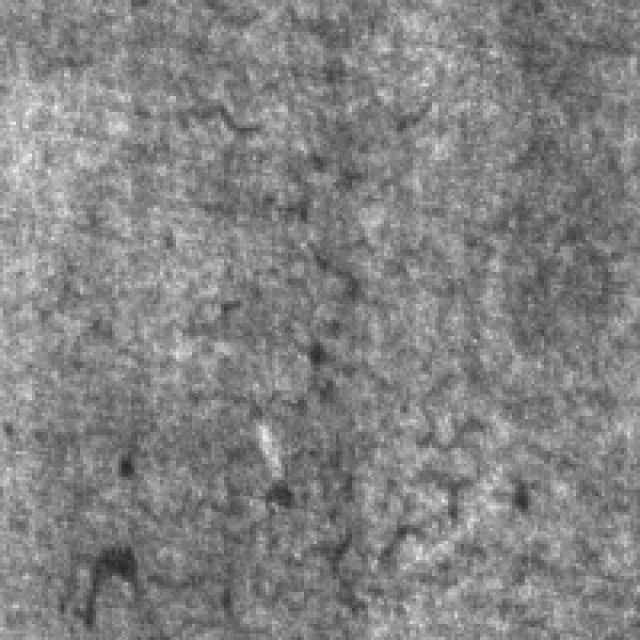crazing: (339, 346, 506, 614)
